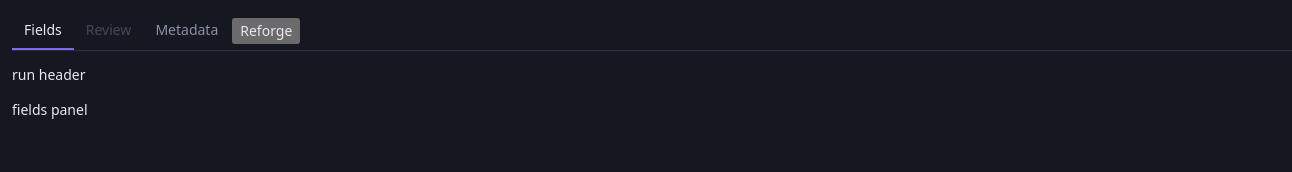
arrow keys skip a disabled tab and show the next panel
Click the tab "Fields": (43, 31) [12, 12, 74, 50]
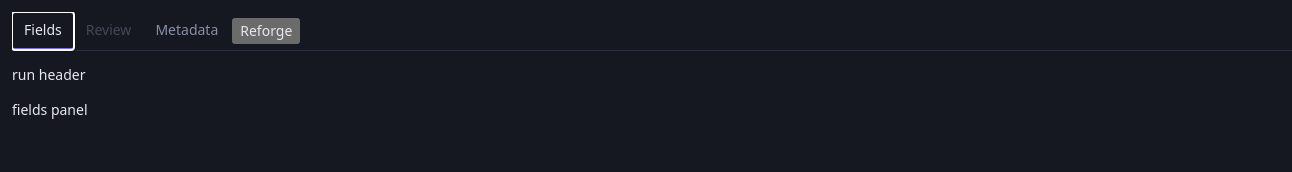
Press Arrowright
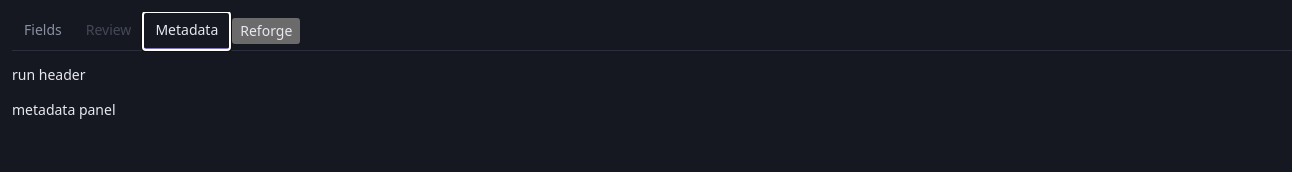
Check: the panel reads "metadata panel", box [12, 100, 116, 119]
